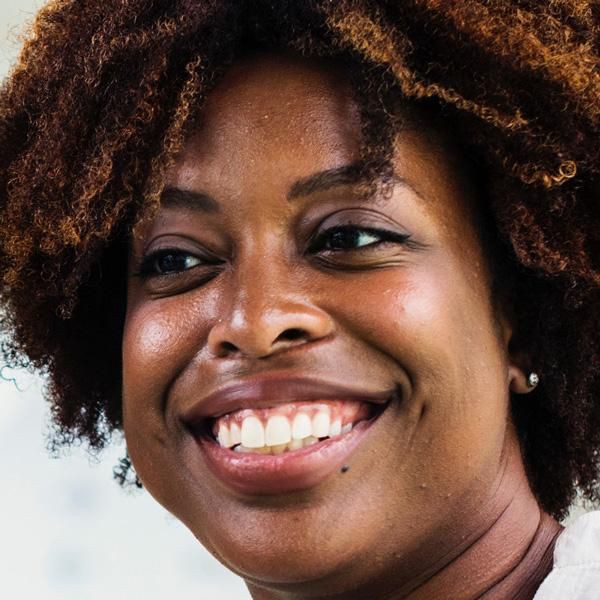Eyes: (295, 194, 420, 279), (127, 226, 231, 296)
